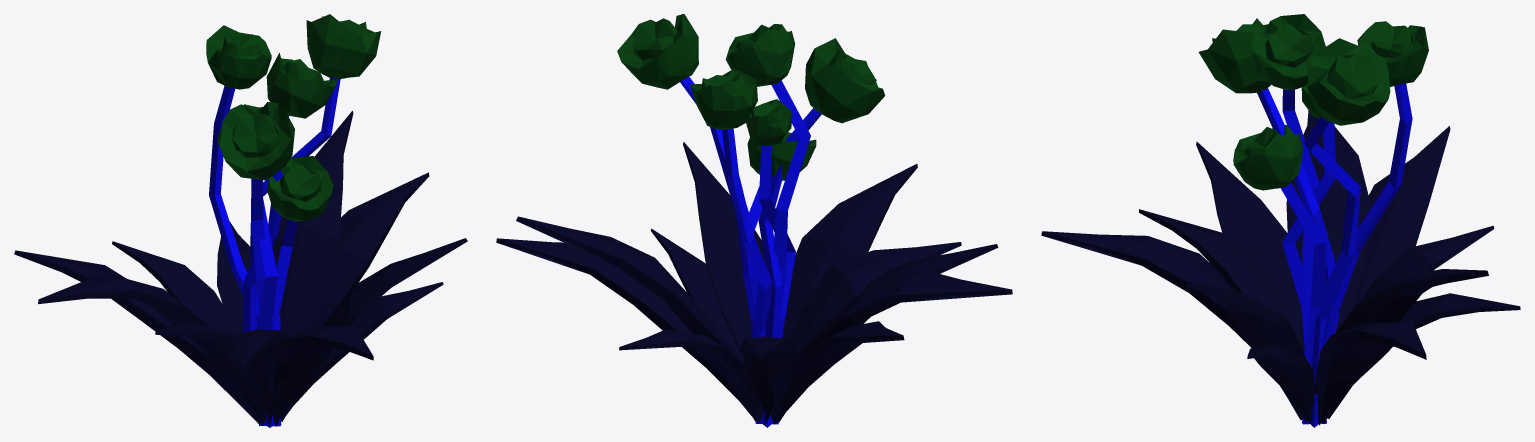
Rendered from PatchRose05.fbx.
The picture shows the model from 3 angles, left to right: view 1: azimuth 30°, elevation 25°; view 2: azimuth 150°, elevation 25°; view 3: azimuth 270°, elevation 25°; orthographic projection. The views are drawn at different scales.
Visible parts, largest first — view 1: PatchRose05; view 2: PatchRose05; view 3: PatchRose05.
Part boxes in pixels (<box>): PatchRose05: <box>14,14,467,427</box>; PatchRose05: <box>496,14,1012,427</box>; PatchRose05: <box>1041,14,1520,427</box>.
Size of the model in its own units: 45.18 by 37.35 by 38.41.
